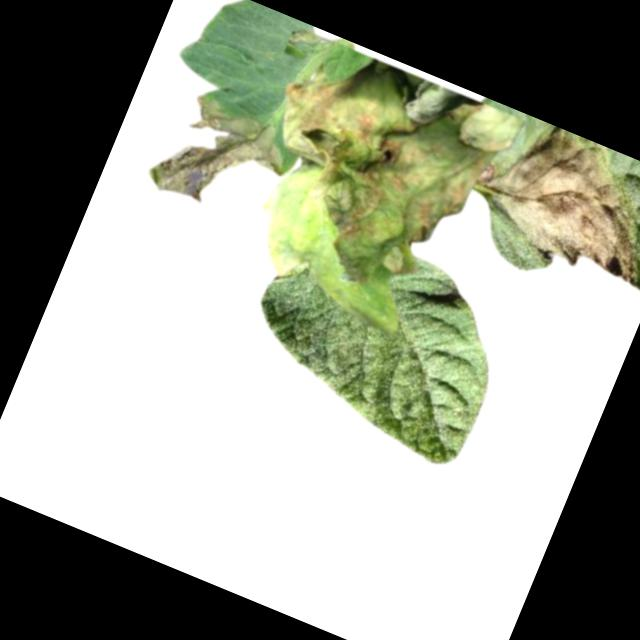Late_blight: (212, 23, 526, 321), (477, 114, 640, 295), (140, 86, 296, 234)
healthy: (227, 208, 526, 473)
